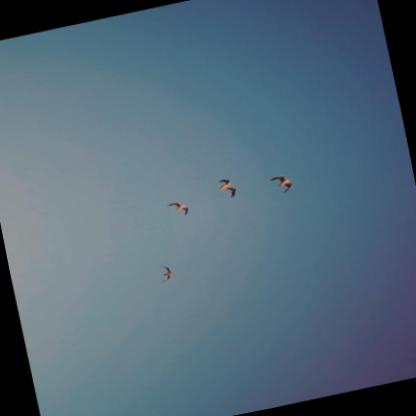bird: (210, 175, 241, 203), (266, 171, 296, 198), (154, 261, 178, 287), (165, 198, 191, 219)
